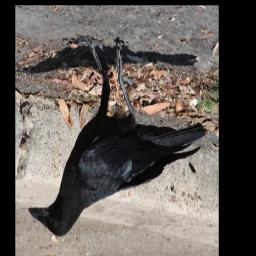Crow: (27, 38, 206, 241)
